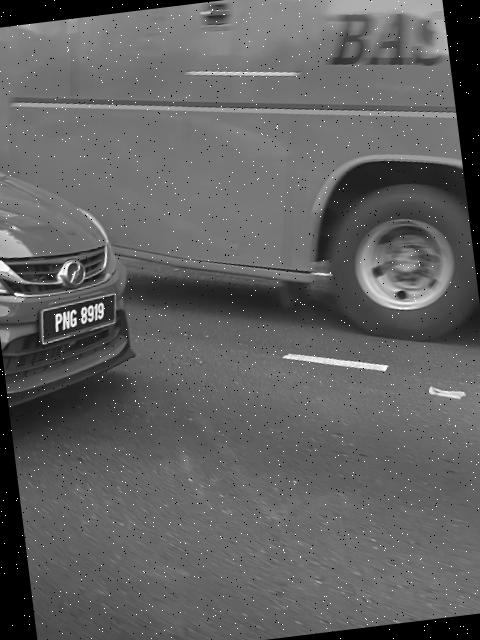License_Plate: (42, 296, 123, 342)
car: (1, 125, 156, 422)
